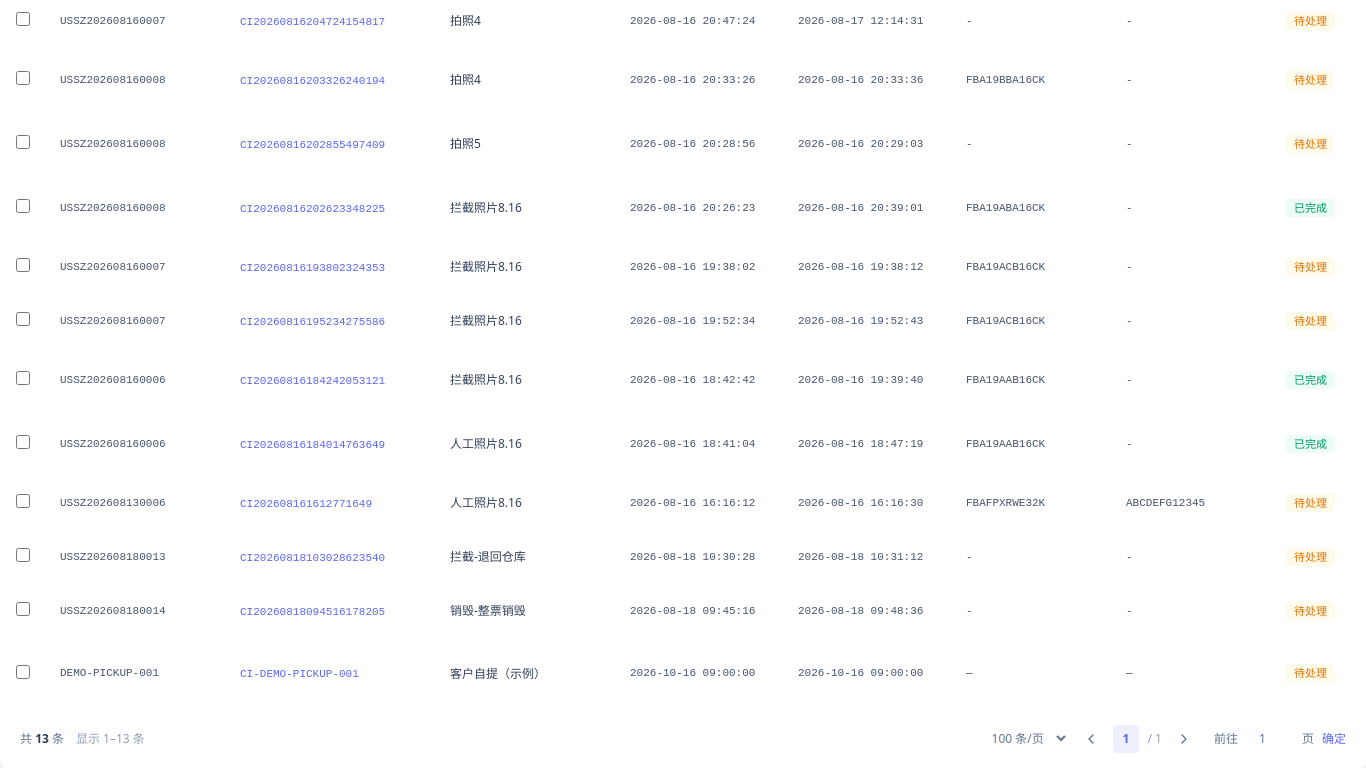
pickup details show the expected time, contact and phone and completed failures stay visibly distinct
(page scrolled)
Select "100 条/页" in the dropdown named "指令列表每页条数" at (1024, 738), box left=980, top=723, right=1069, bottom=754
Select "100 条/页" in the dropdown named "指令列表每页条数" at (1024, 738), box left=980, top=723, right=1069, bottom=754
Click the button "CI-DEMO-PICKUP-001" at (299, 675), box left=240, top=667, right=359, bottom=682
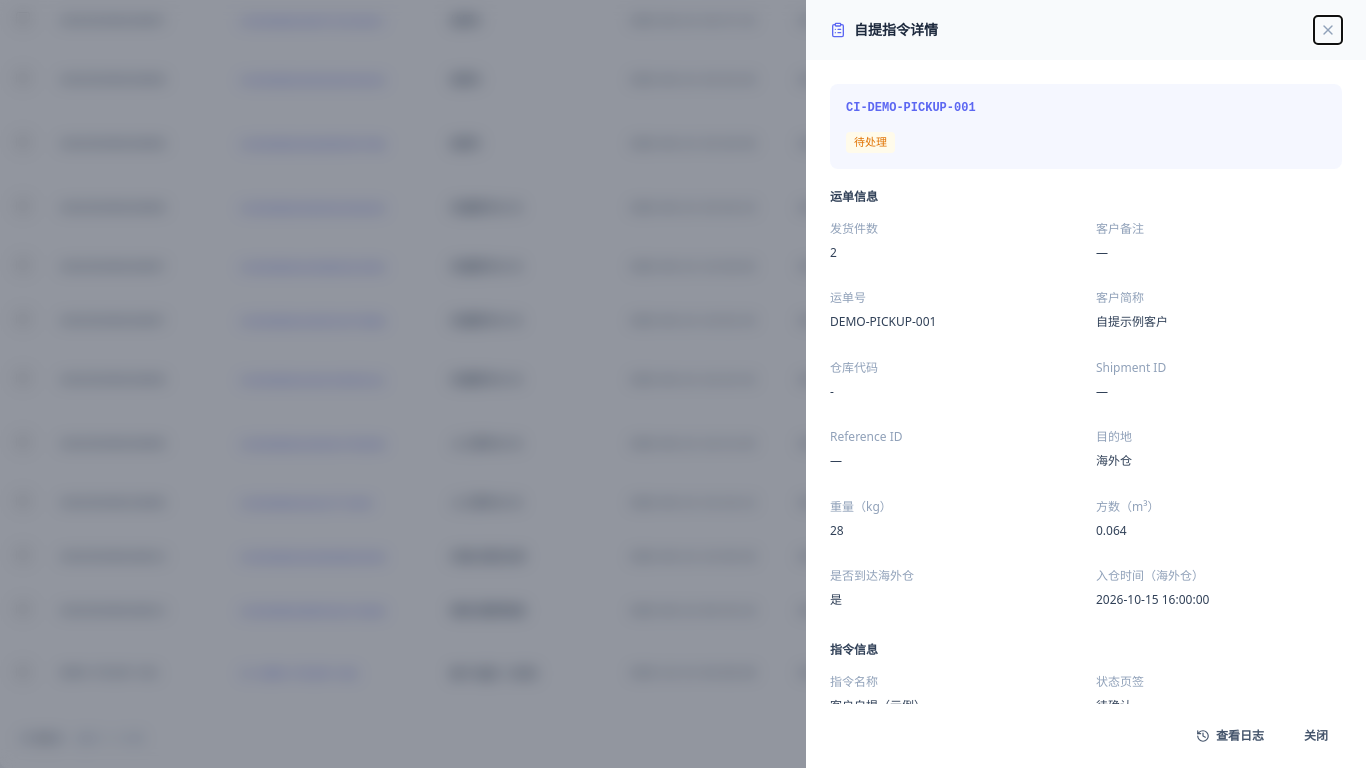
expect the dialog is shown: met, box left=806, top=0, right=1365, bottom=767
expect the button "关闭" is shown: met
Click the button "关闭" at (1316, 736), box left=1290, top=720, right=1342, bottom=752
(page scrolled)
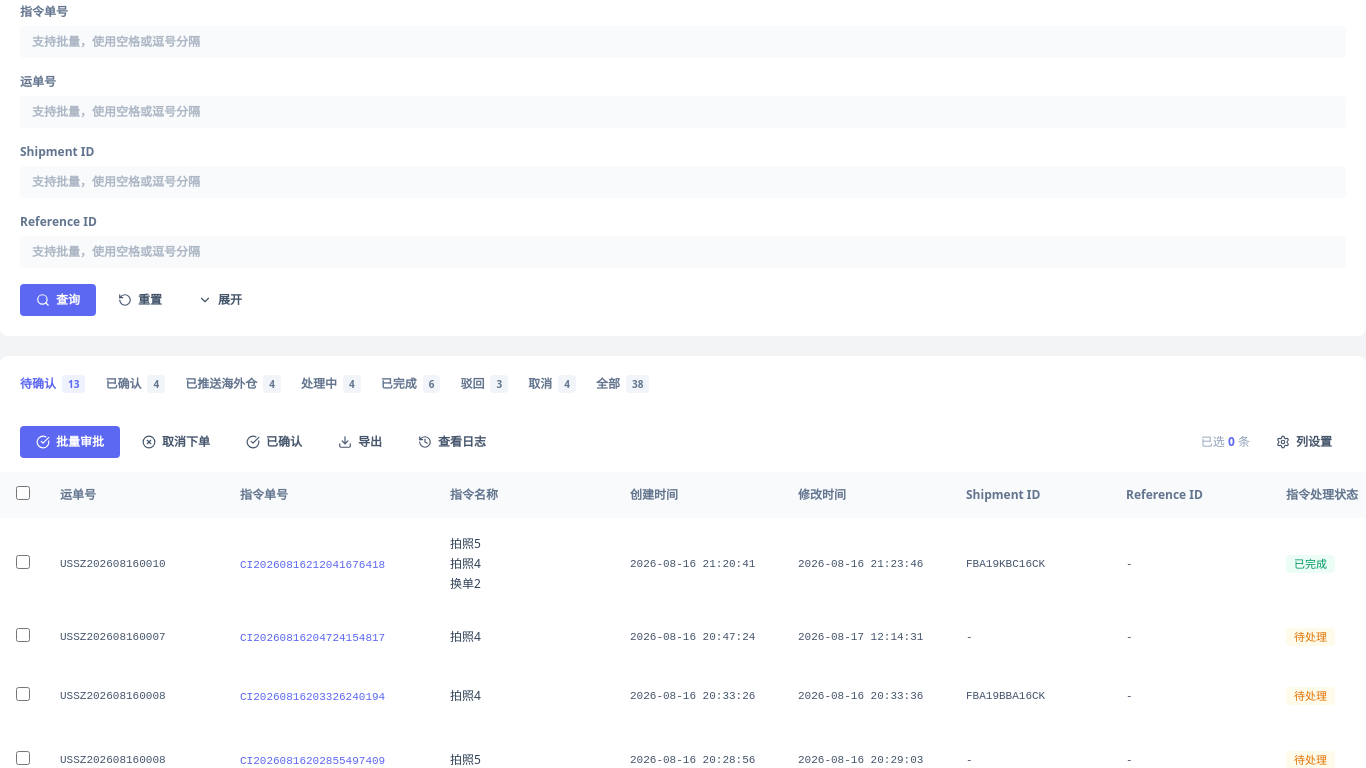
Click the tab "已完成6" at (411, 384), box left=381, top=360, right=440, bottom=408
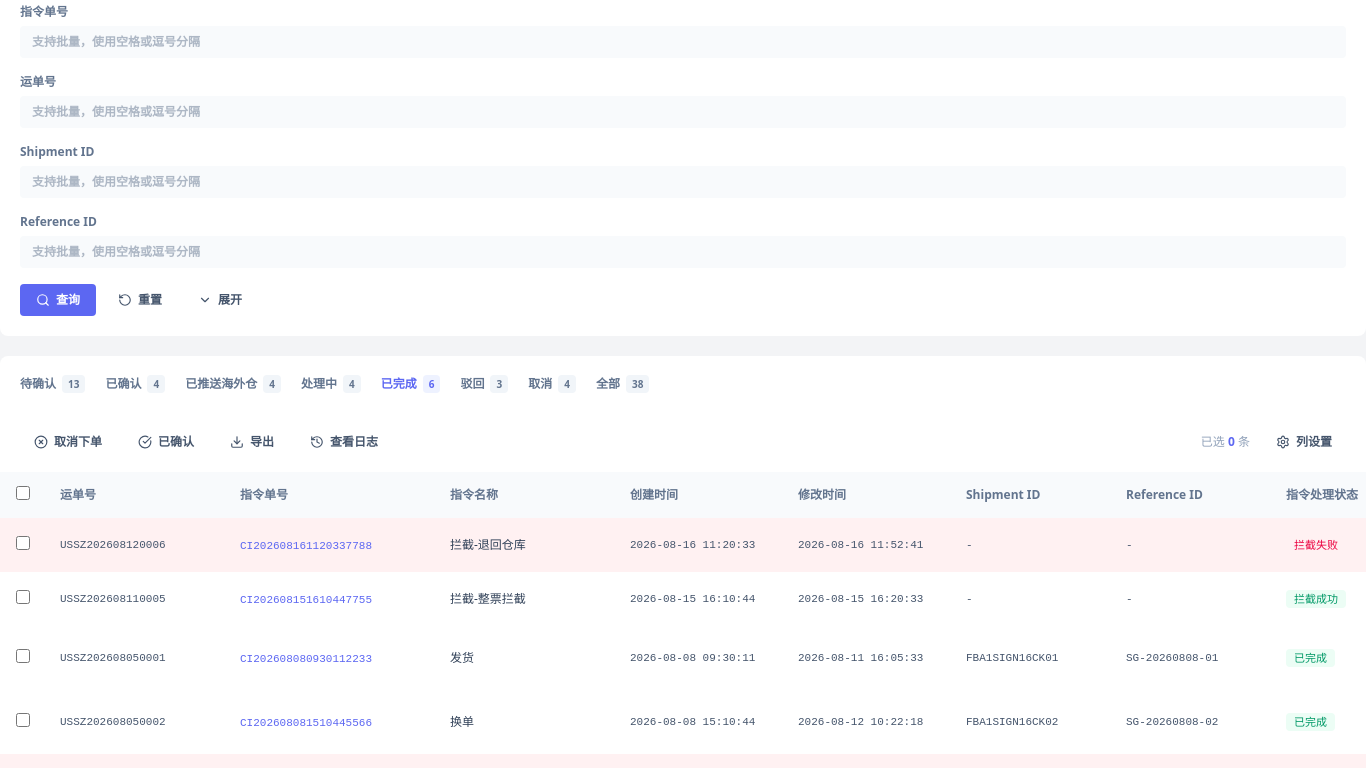
expect the text "拦截失败" is shown: met, box left=1286, top=536, right=1346, bottom=554
expect the text "拦截成功" is shown: met, box left=1286, top=590, right=1346, bottom=608
Click the tab "处理中4" at (331, 384), box left=301, top=360, right=361, bottom=408
(page scrolled)
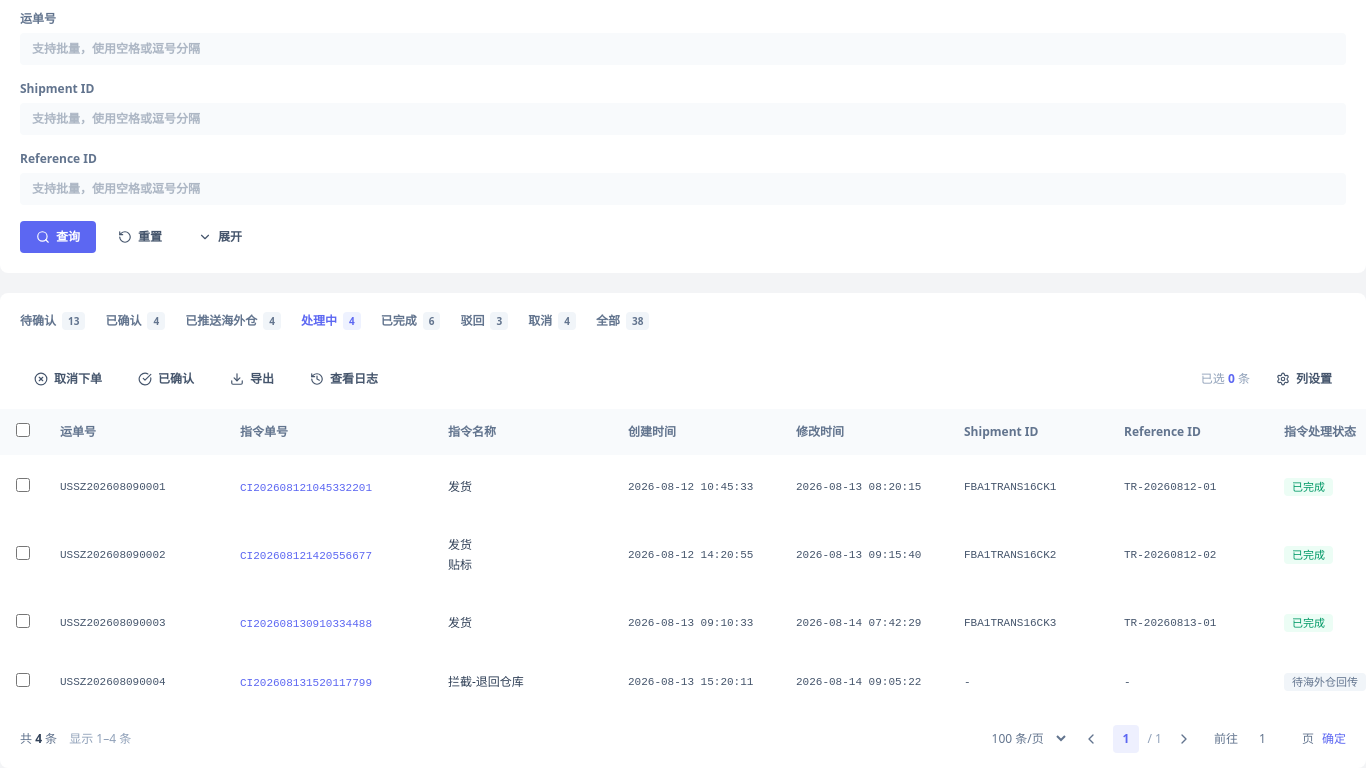
expect the text "待海外仓回传" is shown: met, box left=1284, top=673, right=1365, bottom=691
